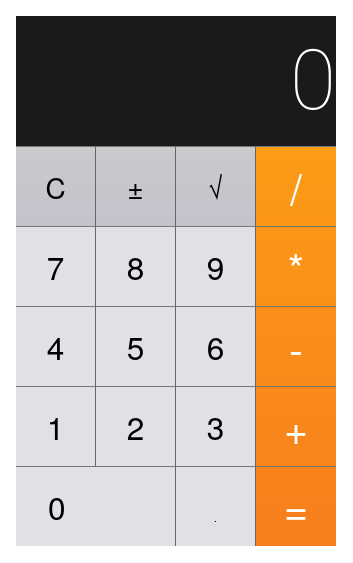
Test: Calculator Tests › should multiply by a negative correctly
Click the button with class "key-subtract": (296, 346) [256,306,336,386]
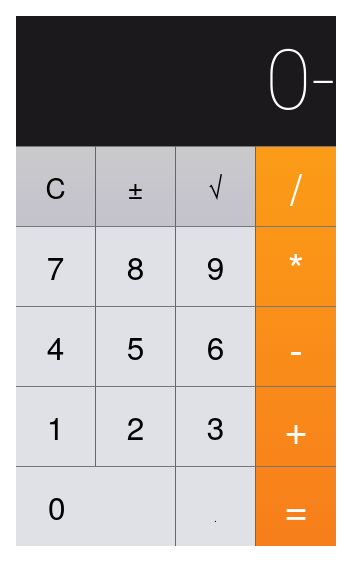
Click the button with class "key-2": (136, 426) [96,386,176,466]
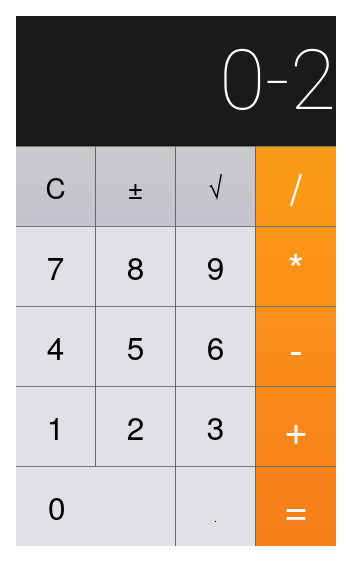
Click the button with class "key-multiply": (296, 266) [256,226,336,306]
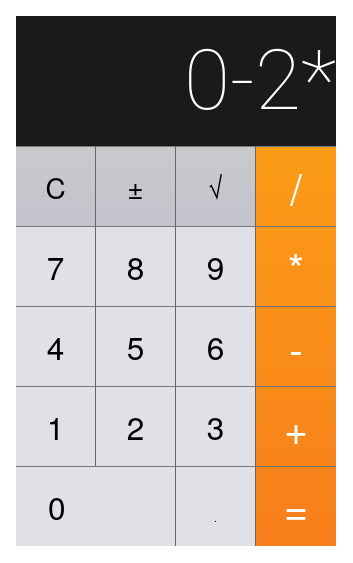
Click the button with class "key-3": (216, 426) [176,386,256,466]
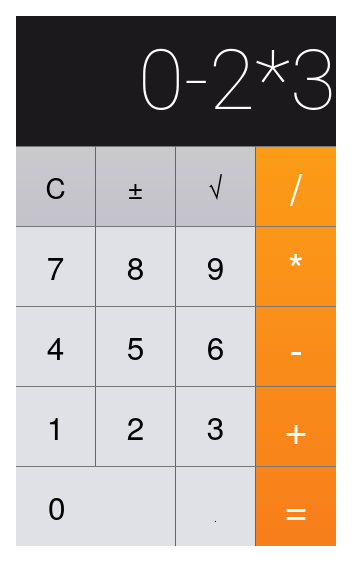
Click the button with class "key-equals": (296, 506) [256,466,336,546]
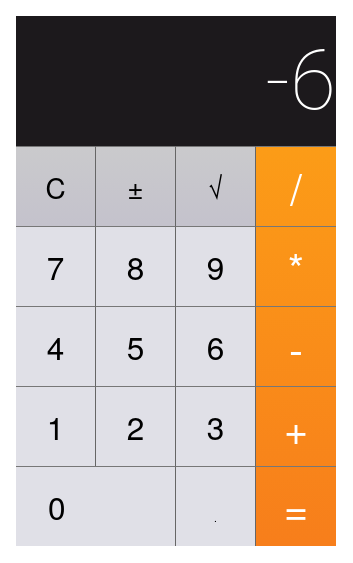
Expected: the text with class "calculator-display" reads "-6", [16,16,336,146]
